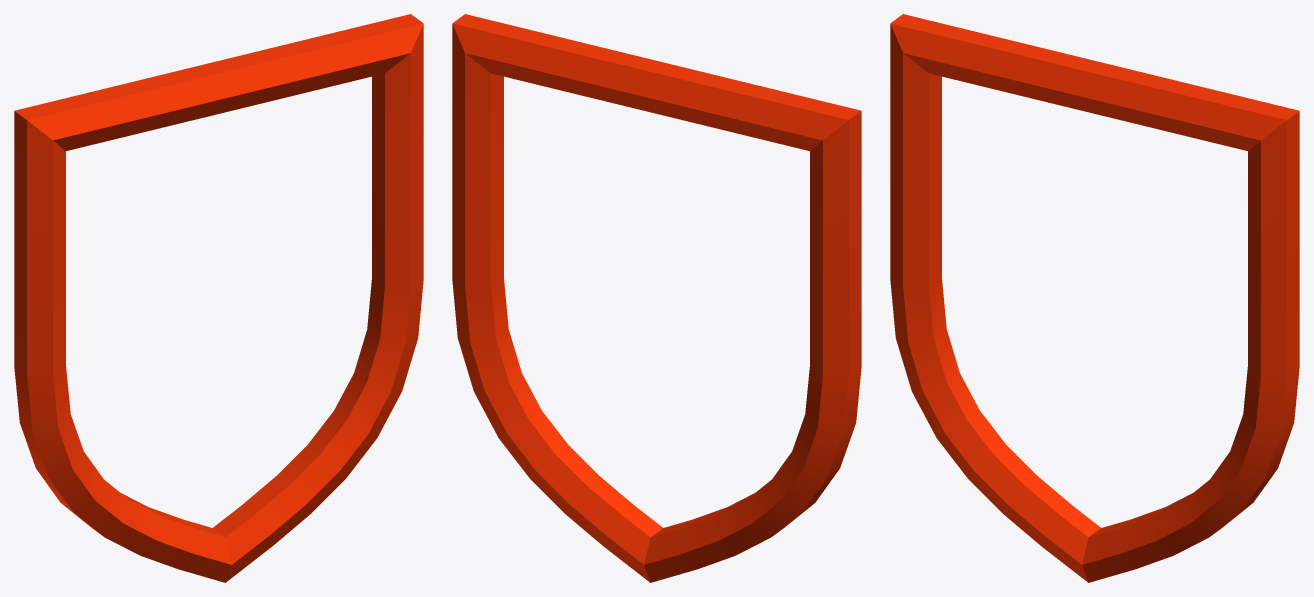
File: Shield_Frame_01_Old_01.fbx
3 renders of one model, left to right at view 1: azimuth 30°, elevation 25°; view 2: azimuth 150°, elevation 25°; view 3: azimuth 330°, elevation 25°, orthographic.
Visible parts, largest first — view 1: Shield_Frame_01_Old_01; view 2: Shield_Frame_01_Old_01; view 3: Shield_Frame_01_Old_01.
Part boxes in pixels (left/top/right/bottom): Shield_Frame_01_Old_01: left=14, top=14, right=423, bottom=582; Shield_Frame_01_Old_01: left=452, top=14, right=861, bottom=582; Shield_Frame_01_Old_01: left=890, top=14, right=1299, bottom=582.
Bounding box in the file's own units: 0.7979 × 0.9827 × 0.09.
